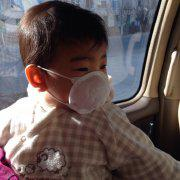OK: (49, 50, 113, 114)
